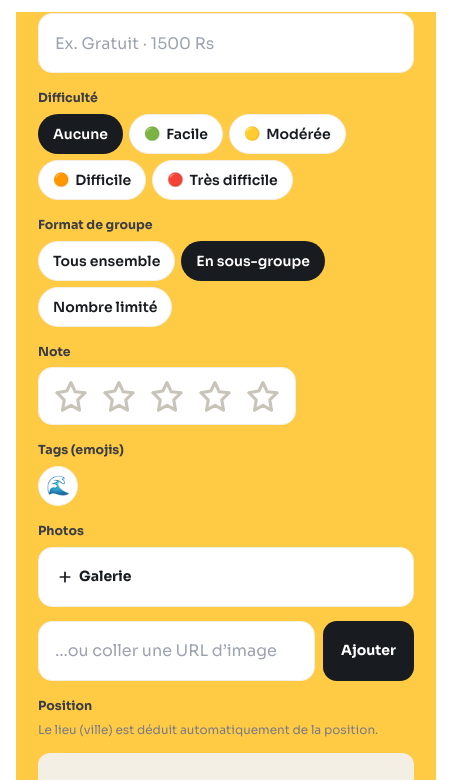
AddActivityScreen › shows a numeric N/5 readout reflecting the rating
(page scrolled)
Expected: the text "3/5" is not shown
Click the button named "note 3 sur 5".
click(167, 396)  # box 143,372 -> 191,420
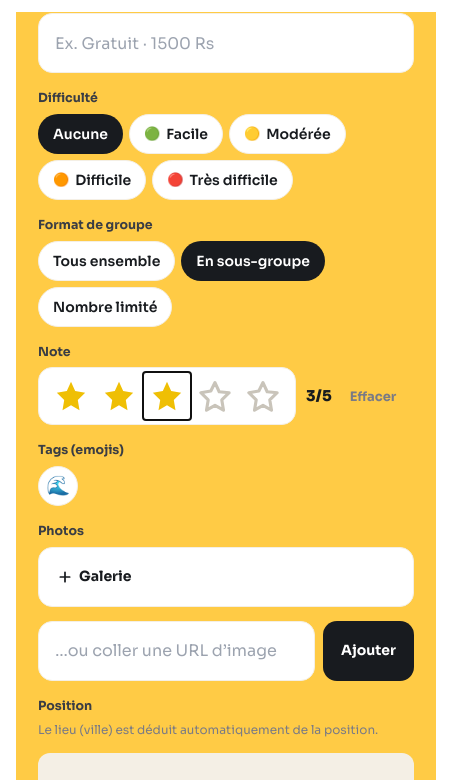
Now the text "3/5" is shown, box 306,385 -> 332,408
